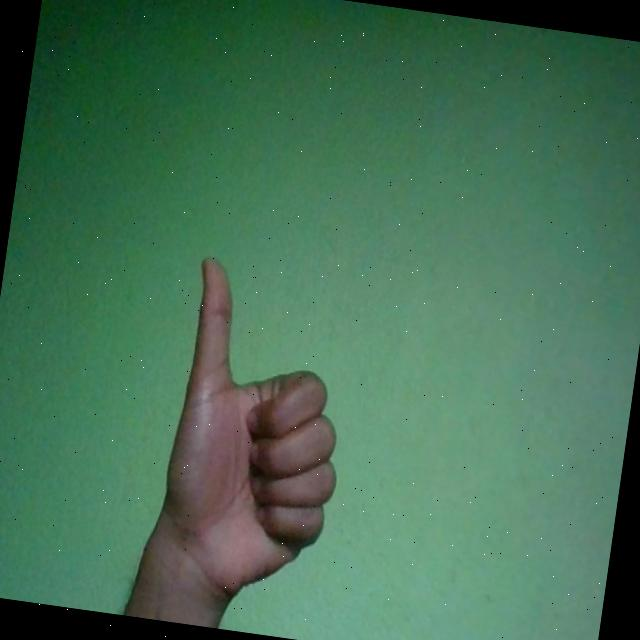Good Job: (150, 254, 366, 615)
